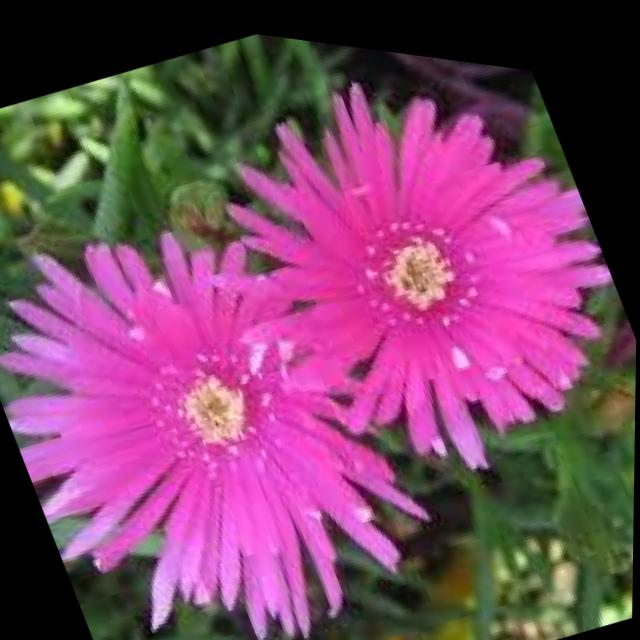Flower: (0, 131, 482, 640), (172, 19, 640, 498)
